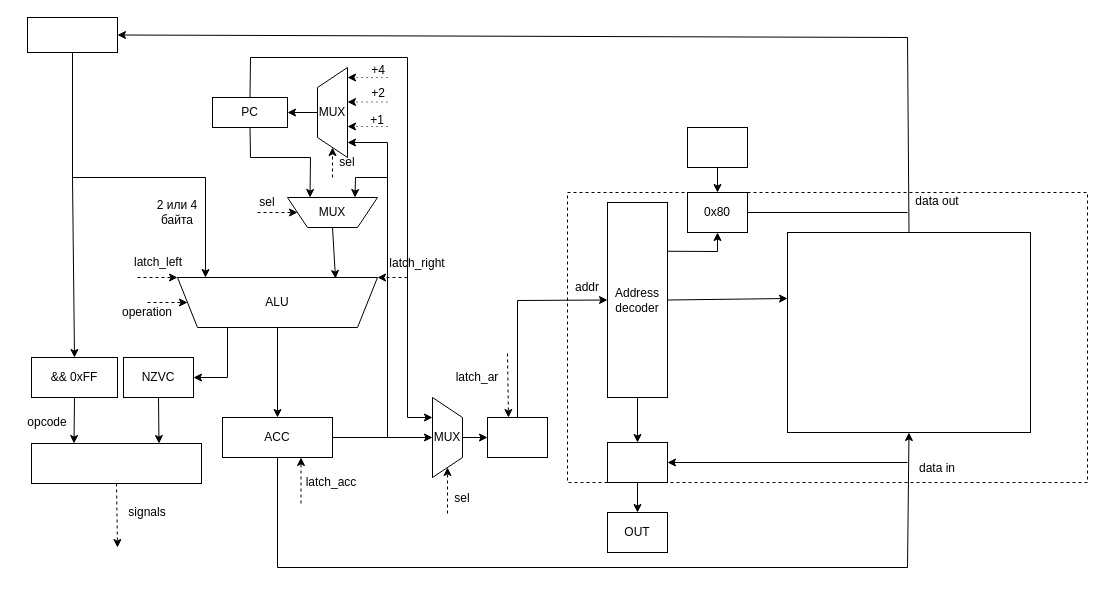
This 1105x593 diagram has some shape labels left out. The shapes that lost their labels are listed below. From the top down, each one's box as (x1, y1, x2, y2) in pixels, then its label:
(26, 16, 118, 52): DR
(686, 126, 748, 168): IN
(786, 232, 1030, 432): MEMORY
(486, 416, 548, 458): AR
(30, 442, 202, 484): Control Unit
(606, 442, 668, 482): 0x84
